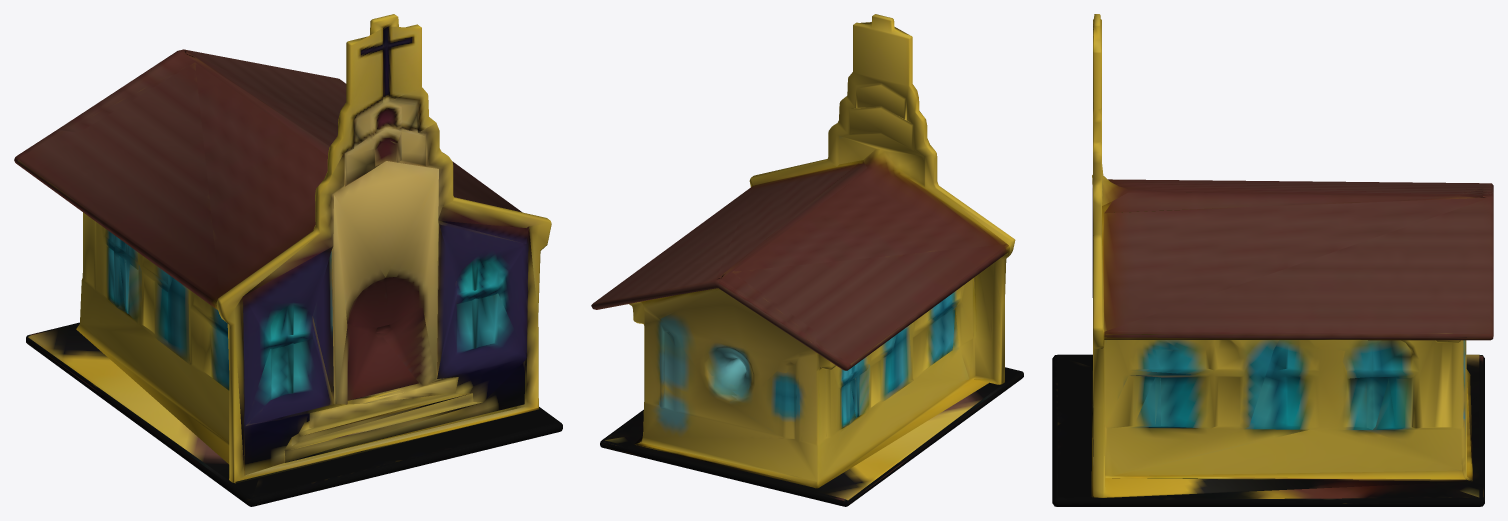
File: pospam_natal_1.glb
The picture shows the model from 3 angles, left to right: view 1: azimuth 30°, elevation 25°; view 2: azimuth 150°, elevation 25°; view 3: azimuth 270°, elevation 25°; orthographic projection. The views are drawn at different scales.
Visible parts, largest first — view 1: tripo_node_241ed5f1; view 2: tripo_node_241ed5f1; view 3: tripo_node_241ed5f1.
Boxes of the visible parts, x1,y1,x2,y2 form: tripo_node_241ed5f1: (14, 14, 562, 506); tripo_node_241ed5f1: (591, 14, 1023, 506); tripo_node_241ed5f1: (1052, 14, 1493, 506).
Size of the model in its own units: 0.7965 by 1 by 0.9609.
Materials: 1 (1 with a texture image).
